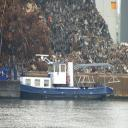tugboat: (6, 51, 116, 103)
